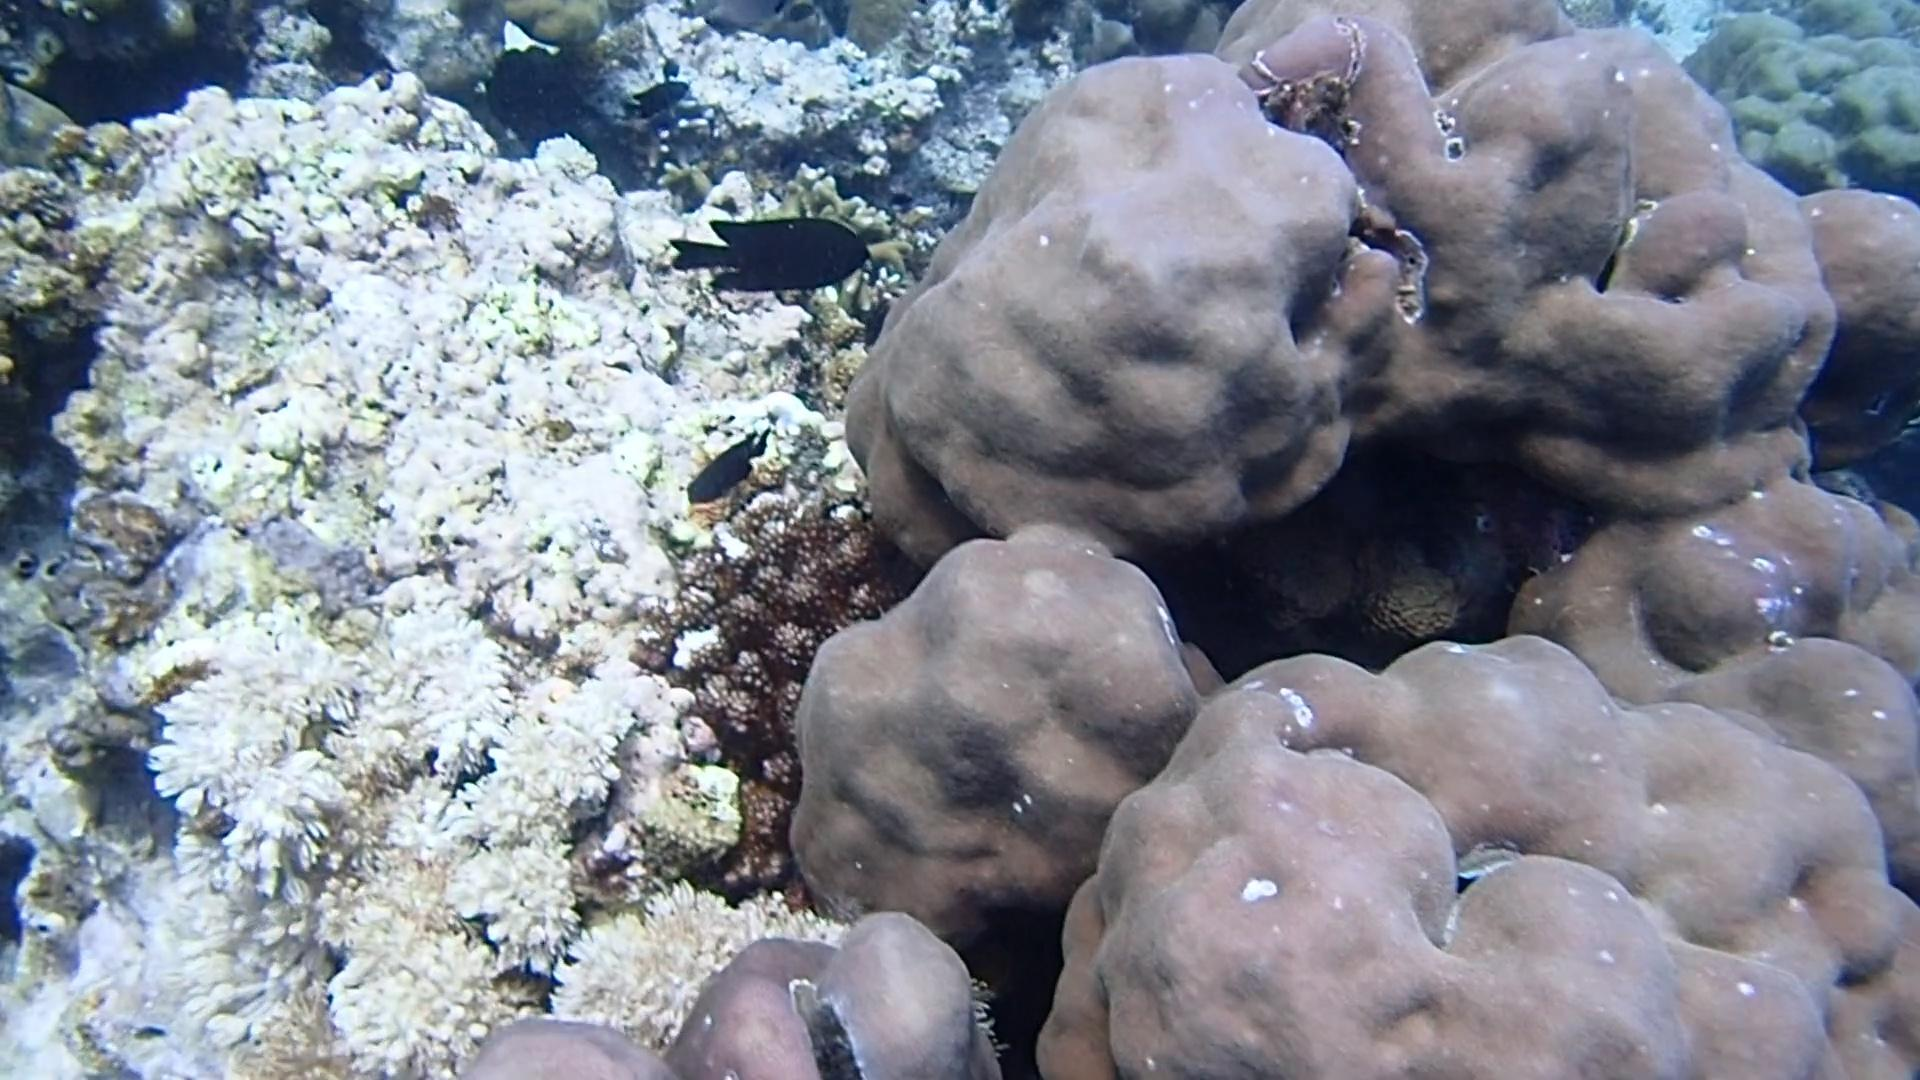Dark Fish: (666, 206, 880, 309), (682, 423, 774, 510), (621, 74, 691, 125)
